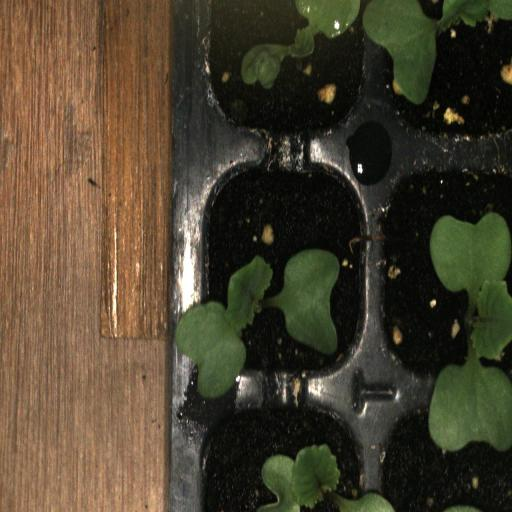seedling: (193, 155, 374, 387), (376, 152, 512, 387), (196, 0, 373, 155)
